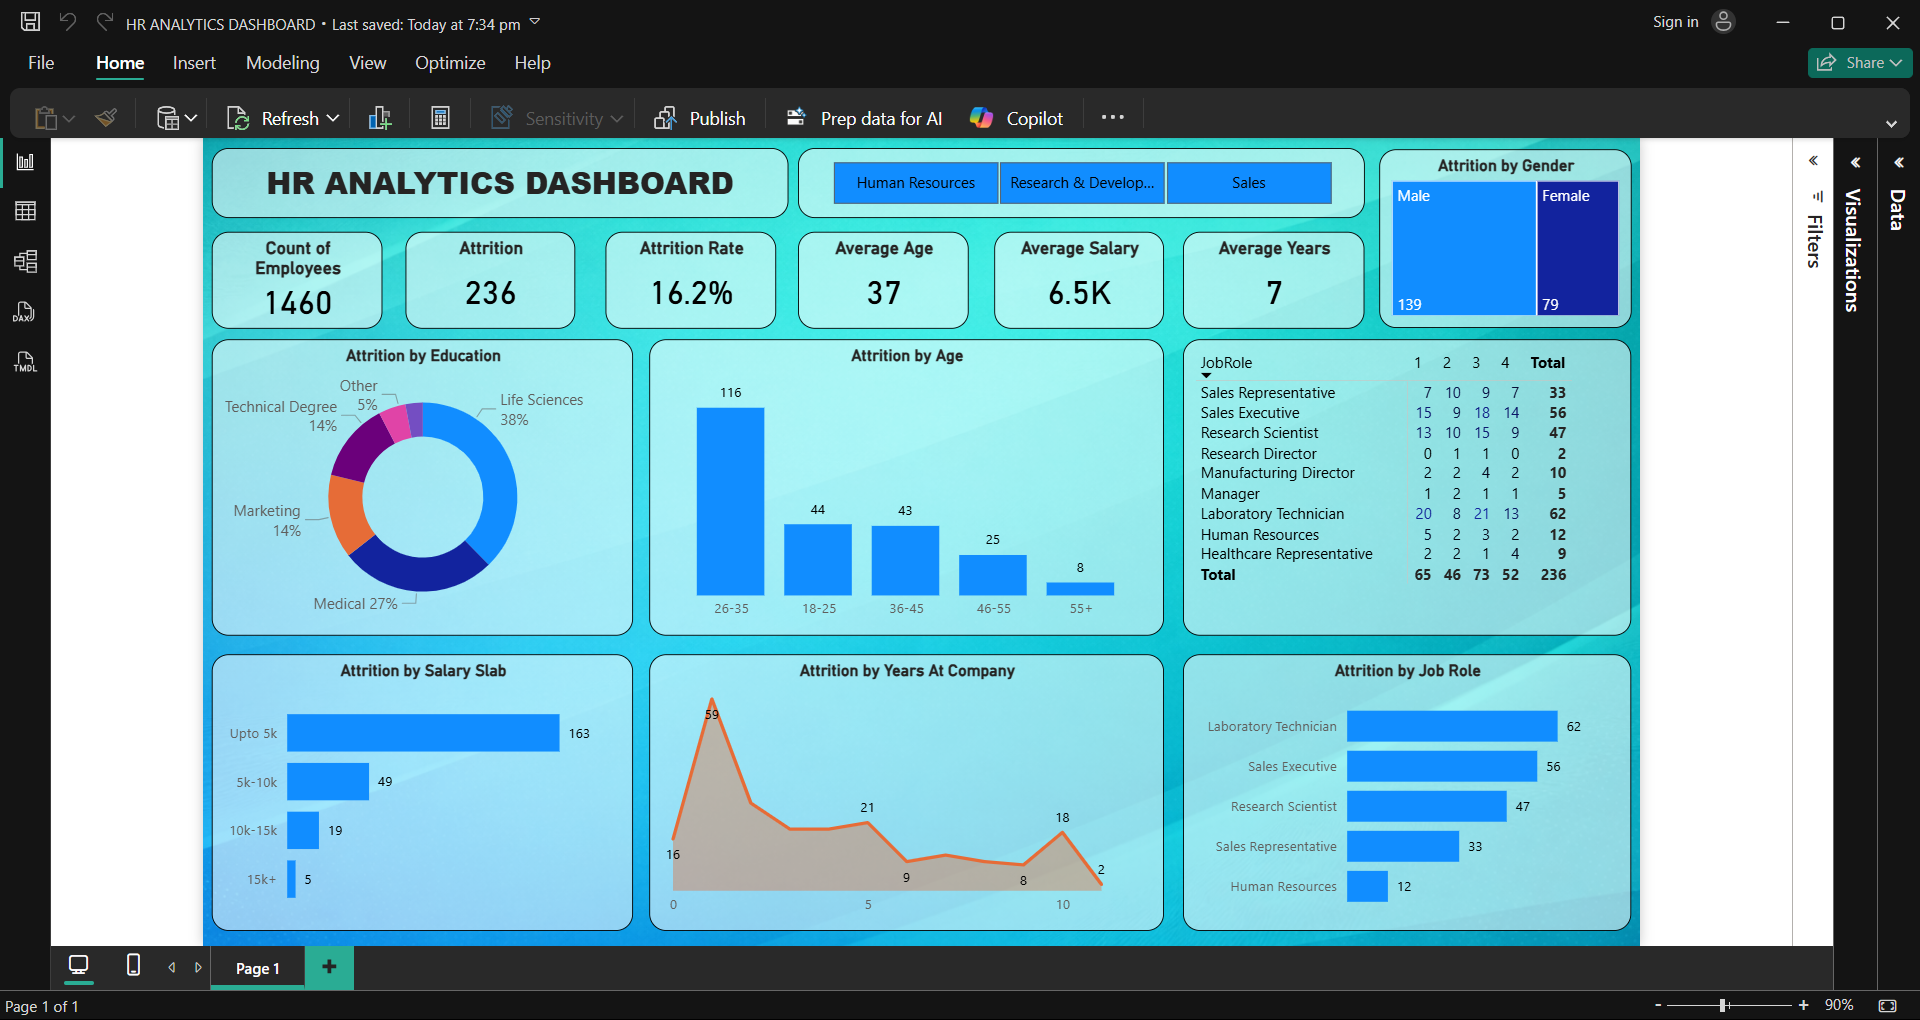

The page's visual inventory and layout, read from the dashboard file:
{"tool":"powerbi","page":{"name":"Page 1","canvas":[1280,720],"ordinal":0},"visuals":[{"type":"card","title":"Count of Employees","fields":{"Values":["CountNonNull(hr_data.EmpID)"]},"box":[8.1,83.7,152.3,86],"z":0},{"type":"card","title":"Attrition Rate","fields":{"Values":["hr_data.Attrition_rate"]},"box":[358.1,83.7,152.3,86],"z":1000},{"type":"card","title":"Attrition","fields":{"Values":["Sum(hr_data.Attrition_count)"]},"box":[180.2,83.7,151.2,86],"z":2000},{"type":"card","title":"Average Age","fields":{"Values":["Avg(hr_data.Age)"]},"box":[530.2,83.7,152.3,86],"z":3000},{"type":"card","title":"Average Years","fields":{"Values":["Avg(hr_data.YearsAtCompany)"]},"box":[873.3,83.7,161.6,86],"z":4000},{"type":"card","title":"Average Salary","fields":{"Values":["Avg(hr_data.MonthlyIncome)"]},"box":[704.7,83.7,151.2,86],"z":5000},{"type":"donutChart","title":"Attrition by Education","fields":{"Category":["hr_data.EducationField"],"Y":["Sum(hr_data.Attrition_count)"]},"box":[8.1,179.1,375.6,264],"z":6000},{"type":"columnChart","title":"Attrition by Age","fields":{"Category":["hr_data.AgeGroup"],"Y":["Sum(hr_data.Attrition_count)"]},"box":[397.7,179.1,458.1,264],"z":7000},{"type":"pivotTable","fields":{"Rows":["hr_data.JobRole"],"Columns":["hr_data.JobSatisfaction"],"Values":["Sum(hr_data.Attrition_count)"]},"box":[873.3,179.1,398.8,264],"z":7001},{"type":"barChart","title":"Attrition by Salary Slab","fields":{"Category":["hr_data.SalarySlab"],"Y":["Sum(hr_data.Attrition_count)"]},"box":[8.1,459.3,375.6,246.5],"z":7002},{"type":"barChart","title":"Attrition by Job Role","fields":{"Category":["hr_data.JobRole"],"Y":["Sum(hr_data.Attrition_count)"]},"box":[873.3,459.3,398.8,246.5],"z":7003},{"type":"areaChart","title":"Attrition by Years At Company","fields":{"Category":["hr_data.YearsAtCompany"],"Y":["Sum(hr_data.Attrition_count)"]},"box":[397.7,459.3,458.1,246.5],"z":7004},{"type":"treemap","title":"Attrition by Gender","fields":{"Group":["hr_data.Gender"],"Values":["Sum(hr_data.Attrition_count)"]},"box":[1047.7,10.5,224.4,159.3],"z":7005},{"type":"slicer","fields":{"Values":["hr_data.Department"]},"box":[530.2,9.3,504.7,62.8],"z":7006},{"type":"textbox","box":[8.1,9.3,514,62.8],"z":7007}]}

Visuals, with their boxes on the page's 1280x720 design canvas (x1, y1, x2, y2). These are canvas units, not pixel positions in the 1920x1020 screenshot, which may show the page scaled, cropped or inside an application window:
"Count of Employees" card: detection(8, 84, 160, 170)
"Attrition Rate" card: detection(358, 84, 510, 170)
"Attrition" card: detection(180, 84, 331, 170)
"Average Age" card: detection(530, 84, 682, 170)
"Average Years" card: detection(873, 84, 1035, 170)
"Average Salary" card: detection(705, 84, 856, 170)
"Attrition by Education" donutChart: detection(8, 179, 384, 443)
"Attrition by Age" columnChart: detection(398, 179, 856, 443)
pivotTable - hr_data.JobRole x hr_data.JobSatisfaction: detection(873, 179, 1272, 443)
"Attrition by Salary Slab" barChart: detection(8, 459, 384, 706)
"Attrition by Job Role" barChart: detection(873, 459, 1272, 706)
"Attrition by Years At Company" areaChart: detection(398, 459, 856, 706)
"Attrition by Gender" treemap: detection(1048, 10, 1272, 170)
slicer - hr_data.Department: detection(530, 9, 1035, 72)
textbox: detection(8, 9, 522, 72)
